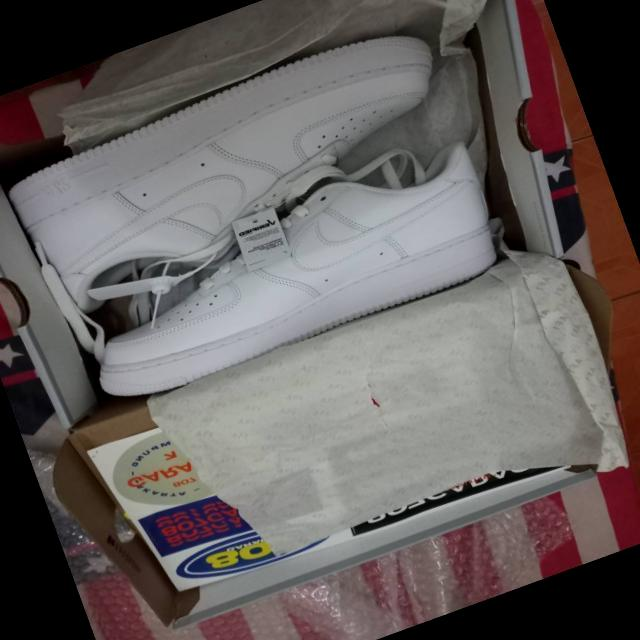nike_original_airforce: (0, 8, 475, 318), (62, 124, 520, 420)
